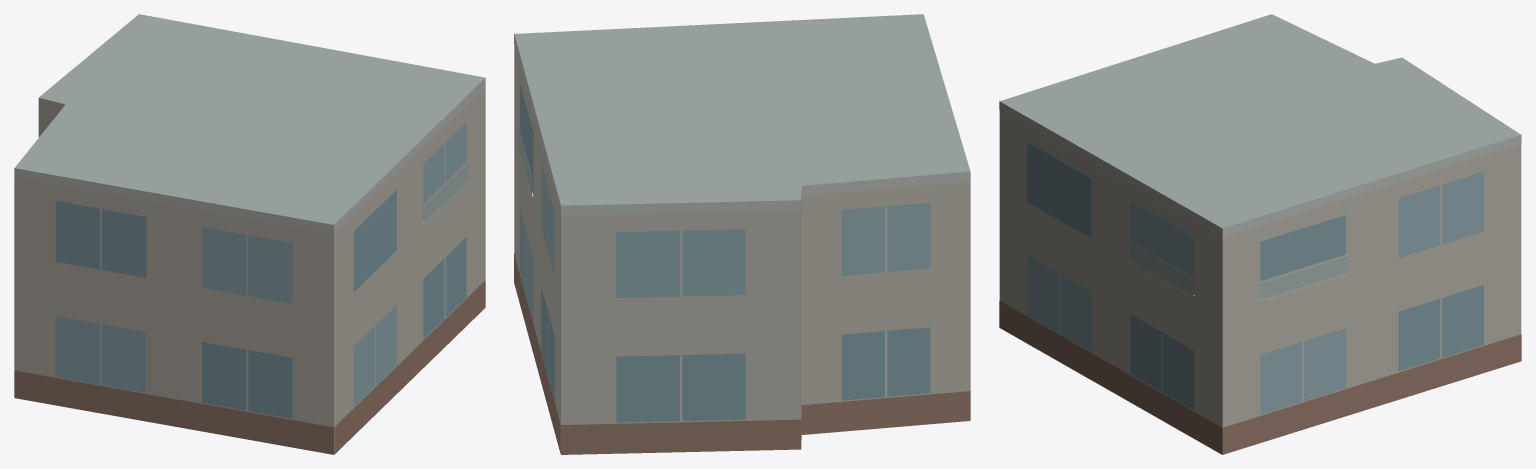
The model's file is survey-upis-33036279.glb.
The picture shows the model from 3 angles, left to right: view 1: azimuth 30°, elevation 25°; view 2: azimuth 150°, elevation 25°; view 3: azimuth 270°, elevation 25°; orthographic projection. The views are drawn at different scales.
Visible parts, largest first — view 1: survey-upis-33036279.tmp; view 2: survey-upis-33036279.tmp; view 3: survey-upis-33036279.tmp.
Boxes of the visible parts, x1,y1,x2,y2 form: survey-upis-33036279.tmp: (14, 14, 485, 454); survey-upis-33036279.tmp: (514, 14, 970, 454); survey-upis-33036279.tmp: (999, 14, 1521, 454).
Size of the model in its own units: 12.4 by 6.1 by 12.75.
